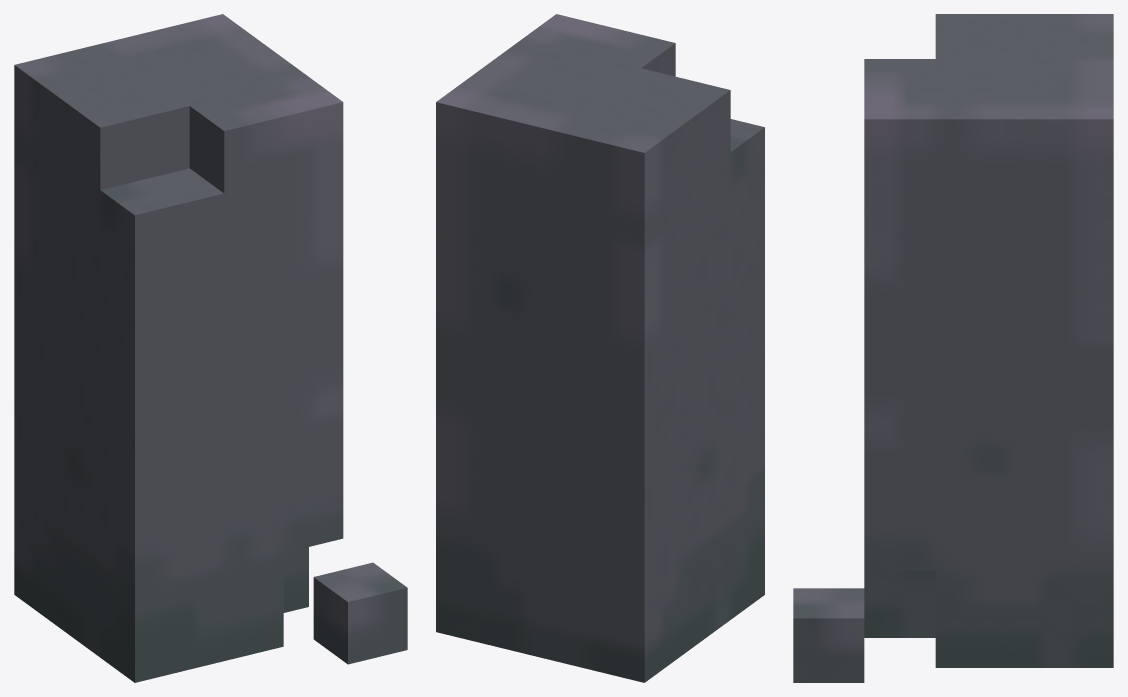
File: Rock_10.fbx
3 renders of one model, left to right at view 1: azimuth 30°, elevation 25°; view 2: azimuth 150°, elevation 25°; view 3: azimuth 270°, elevation 25°, orthographic. The views are drawn at different scales.
Parts seen in each view (by area): view 1: Rock_10; view 2: Rock_10; view 3: Rock_10.
Boxes of the visible parts, box(x1,y1,x2,y2) form: Rock_10: box(14, 14, 407, 682); Rock_10: box(436, 14, 764, 682); Rock_10: box(793, 14, 1113, 682).
Bounding box in the file's own units: 40 × 85 × 45.
